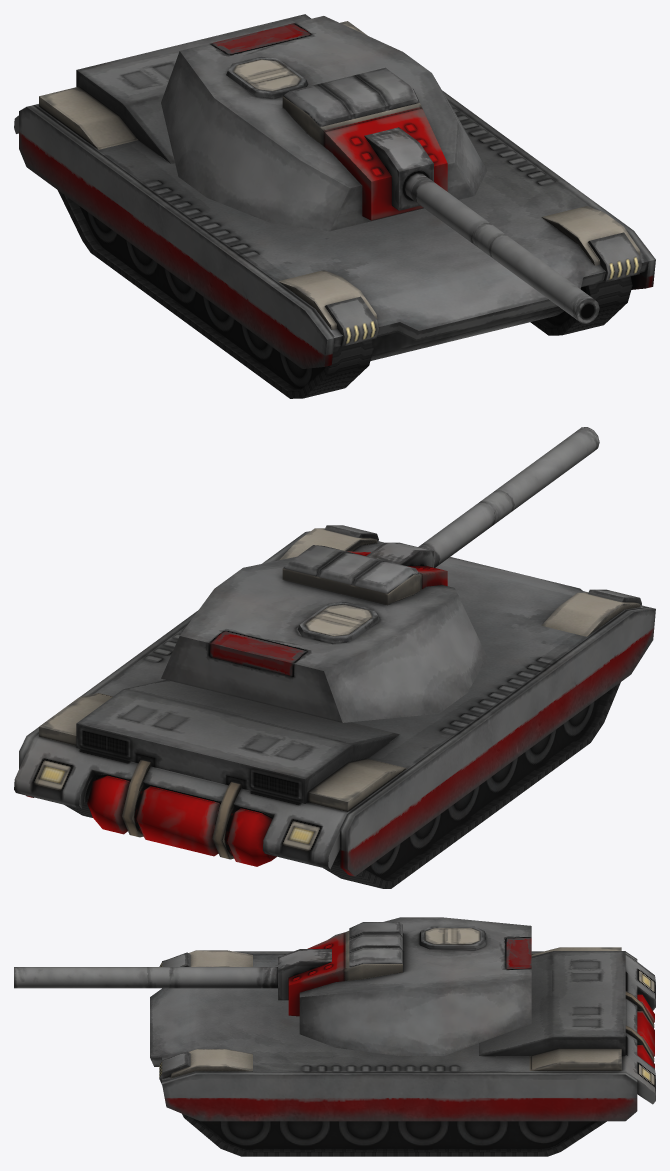
File: tank_blue.gltf
The picture shows the model from 3 angles, top to bottom: view 1: azimuth 30°, elevation 25°; view 2: azimuth 150°, elevation 25°; view 3: azimuth 270°, elevation 25°; orthographic projection. The views are drawn at different scales.
Visible parts, largest first — view 1: tank_lo.004_Cylinder.008, treads_lo.003_Cylinder.009; view 2: tank_lo.004_Cylinder.008, treads_lo.003_Cylinder.009; view 3: tank_lo.004_Cylinder.008, treads_lo.003_Cylinder.009.
Part boxes in pixels (<box>): tank_lo.004_Cylinder.008: <box>14,14,655,388</box>; treads_lo.003_Cylinder.009: <box>57,190,632,398</box>; tank_lo.004_Cylinder.008: <box>14,427,655,878</box>; treads_lo.003_Cylinder.009: <box>65,682,620,888</box>; tank_lo.004_Cylinder.008: <box>14,917,655,1148</box>; treads_lo.003_Cylinder.009: <box>182,1114,606,1156</box>.
Bounding box in the file's own units: 5.93 × 3.57 × 13.01.
Materials: 2 (2 with a texture image).
